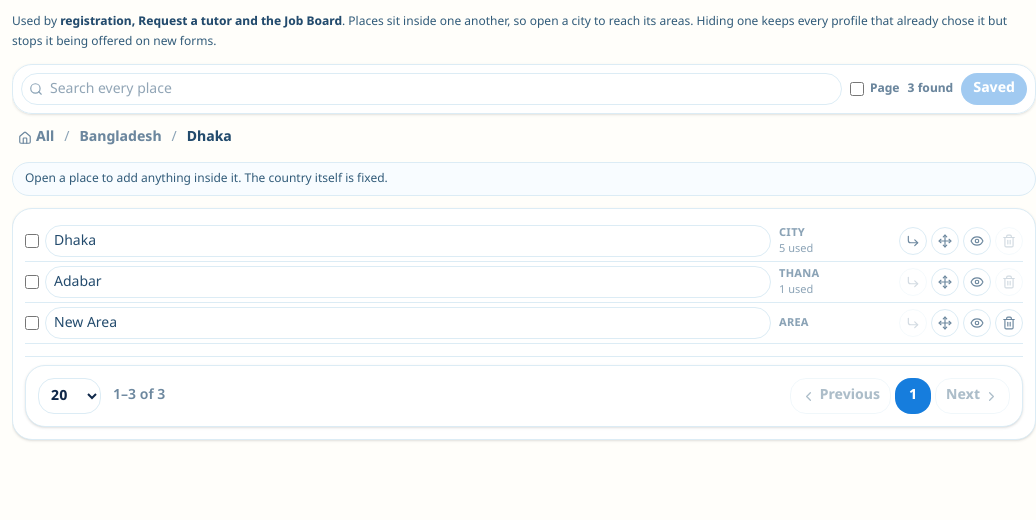
Test case: moving a place › will not drop a place where its kind cannot sit
What coordinates should you click on to do the following:
click the button named "Move Adabar"
I would click on:
 (945, 282)
Its box is [931,268,959,296].
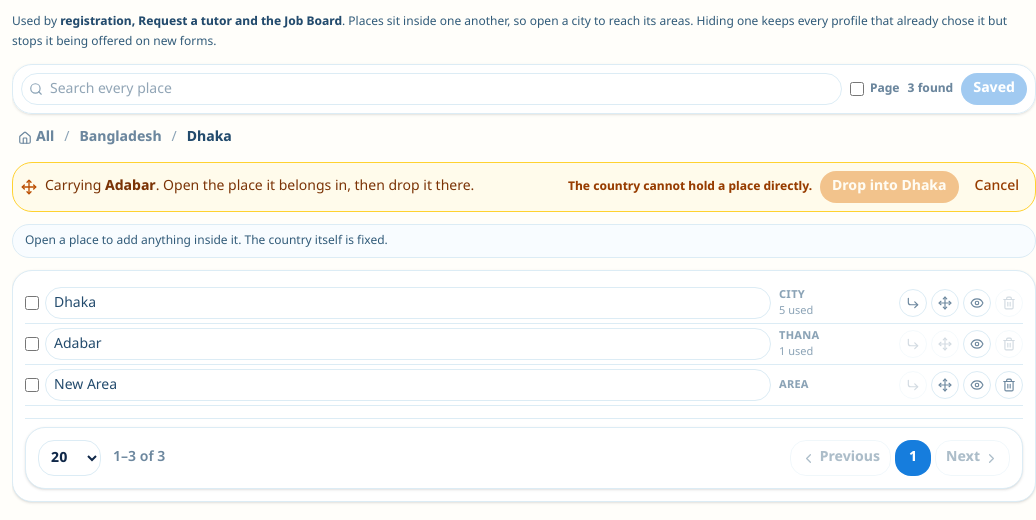
What coordinates should you click on to do the following:
click the button named "Open Dhaka"
I would click on:
 (913, 303)
Its box is [899,289,927,317].
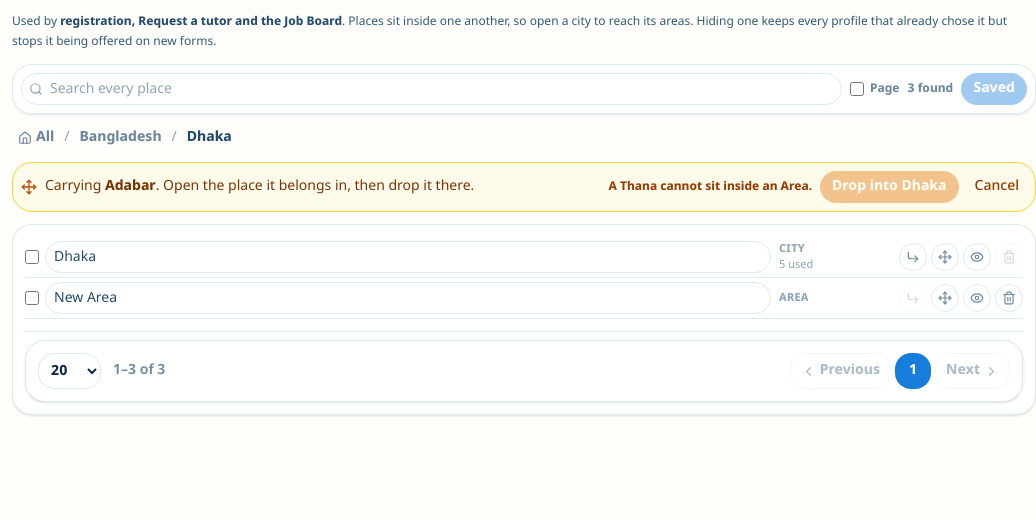
Result: the button "Drop into Dhaka" is disabled at [820,171,958,203]
Result: the text "A Thana cannot sit inside an Area." is shown at [608,179,812,195]
